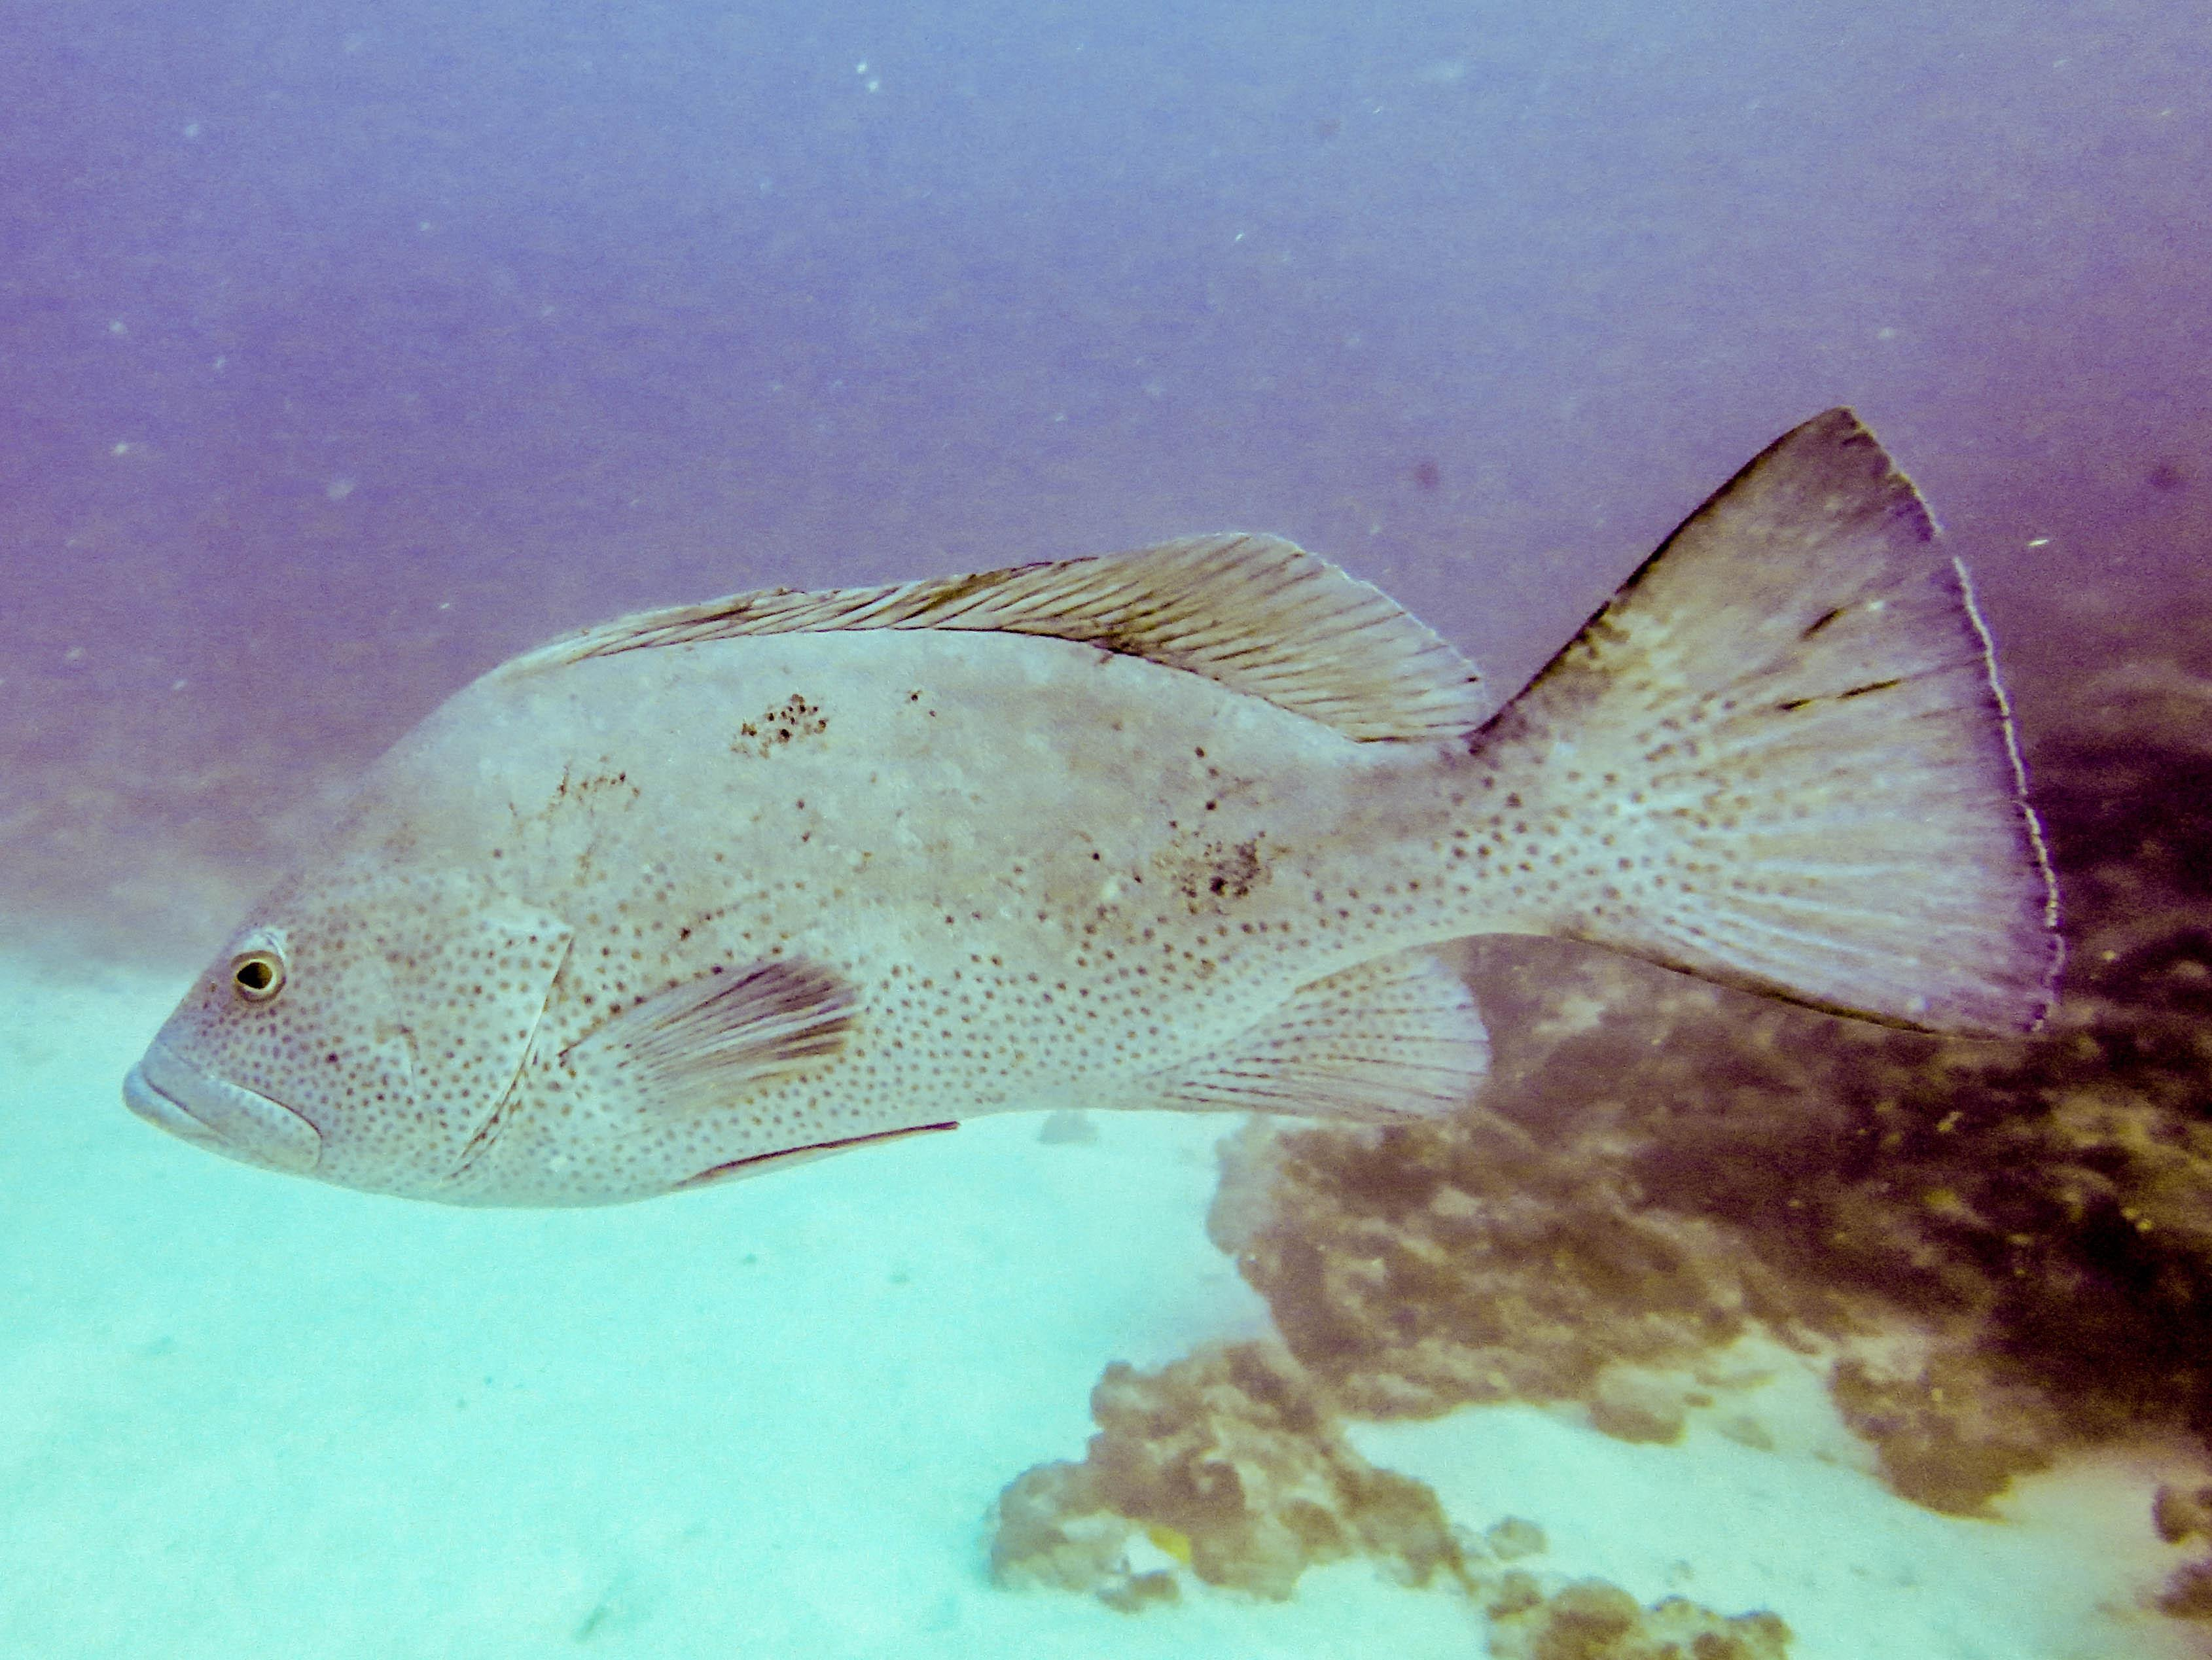Fish: (16, 363, 2193, 1344)
